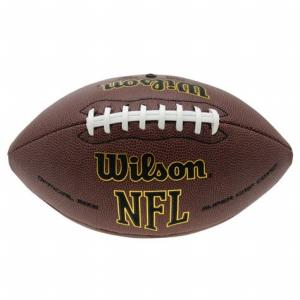Rugby: (8, 72, 293, 240)
